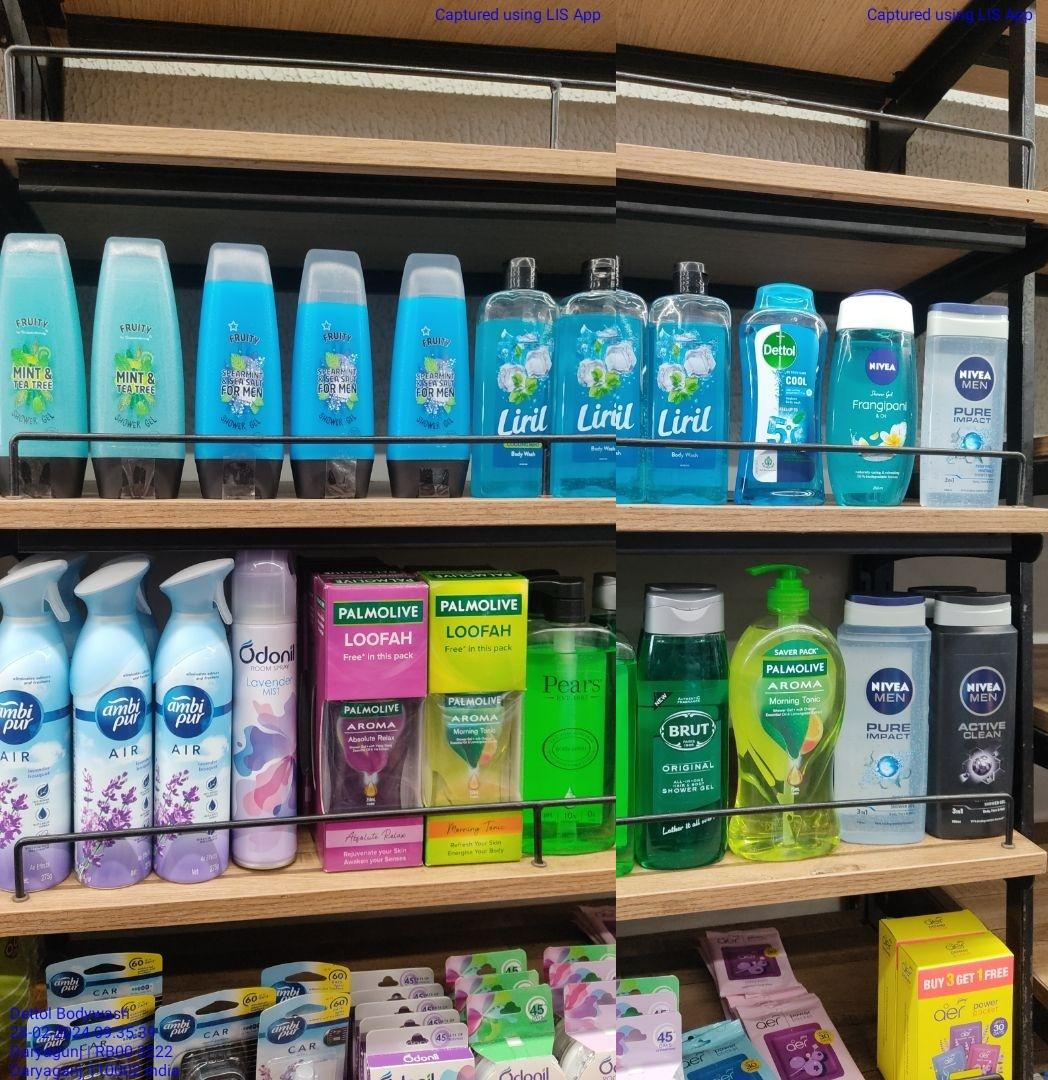Dettol_Bodywash_Cool: (747, 276, 829, 516)
Liril_Cooling_Mint_Body_Wash_250ML: (648, 253, 730, 509), (473, 252, 556, 497), (562, 255, 637, 497)
Nivea_Shower_Gel_Frangipani_and_Oil_250ML: (833, 289, 920, 514)
Pears_Pure_Glycerin_and_Lemon_Flower_Extracts_Body_Wash_250ML: (526, 572, 624, 867)
